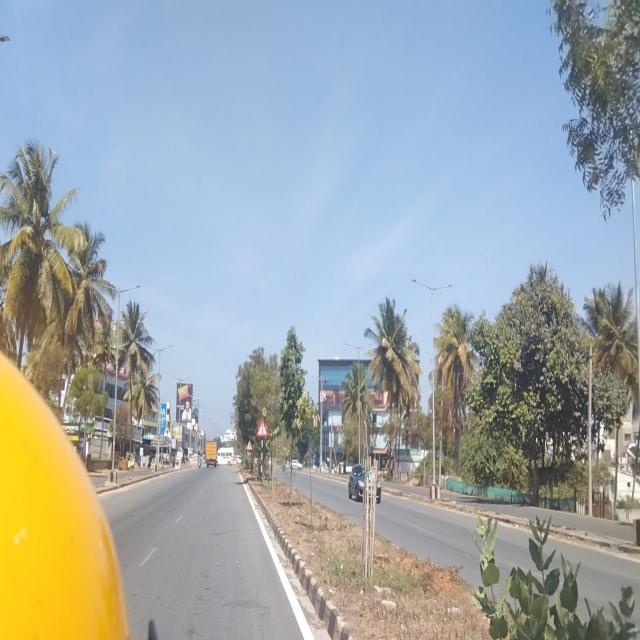bien_nguy_hiem: (256, 418, 268, 437)
